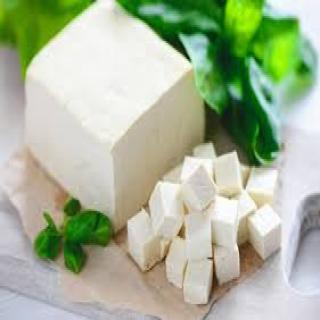Tahu: (15, 1, 216, 233), (115, 108, 291, 314)
